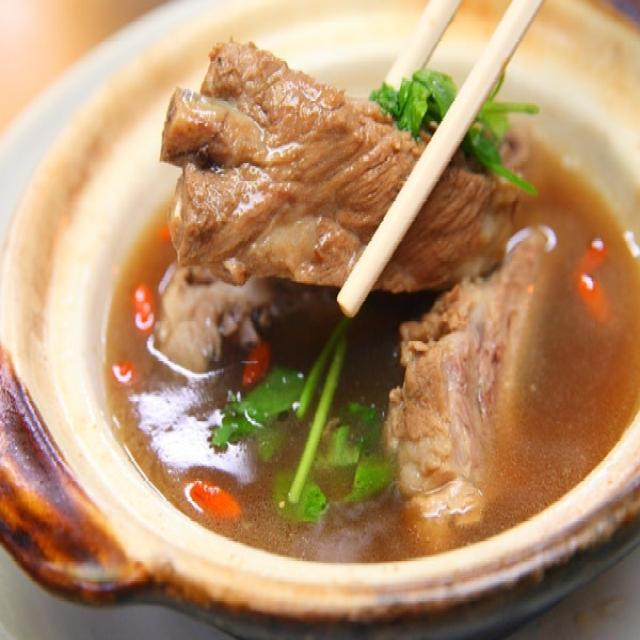汤锅炖物: (33, 26, 632, 589)
